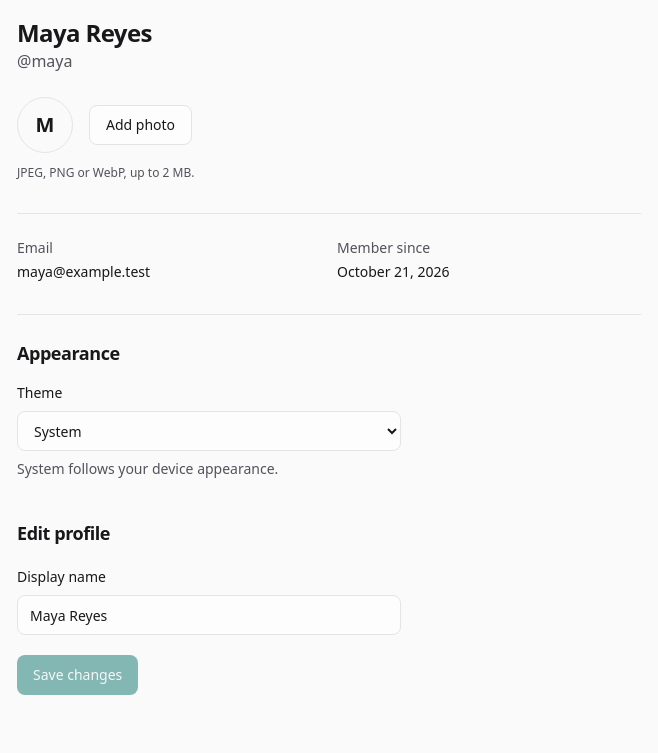
Test: Profile › saves a new display name
The width and height of the screenshot is (658, 753).
Replace the text in the field labelled "Display name" with "Maya R." at point(209, 615), box [17, 595, 401, 635]
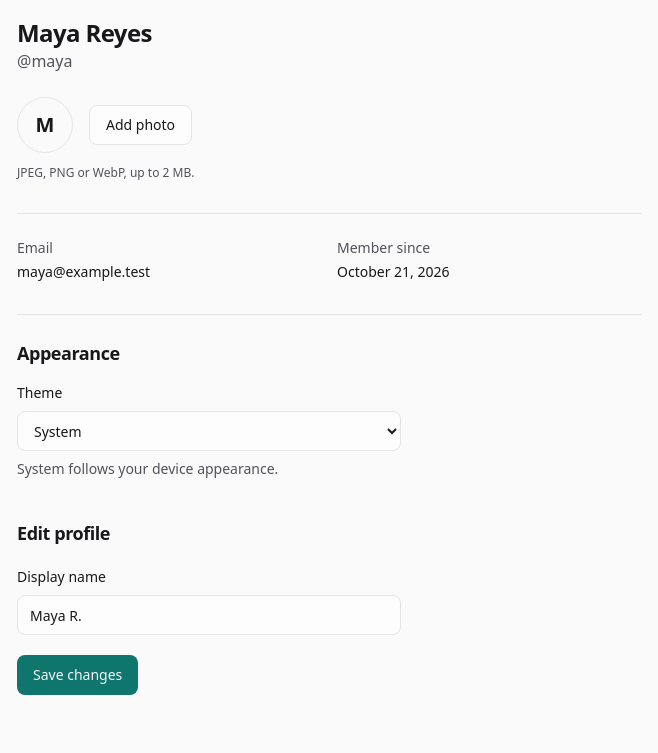
Click the button "Save changes" at point(78, 675), box [17, 655, 138, 695]
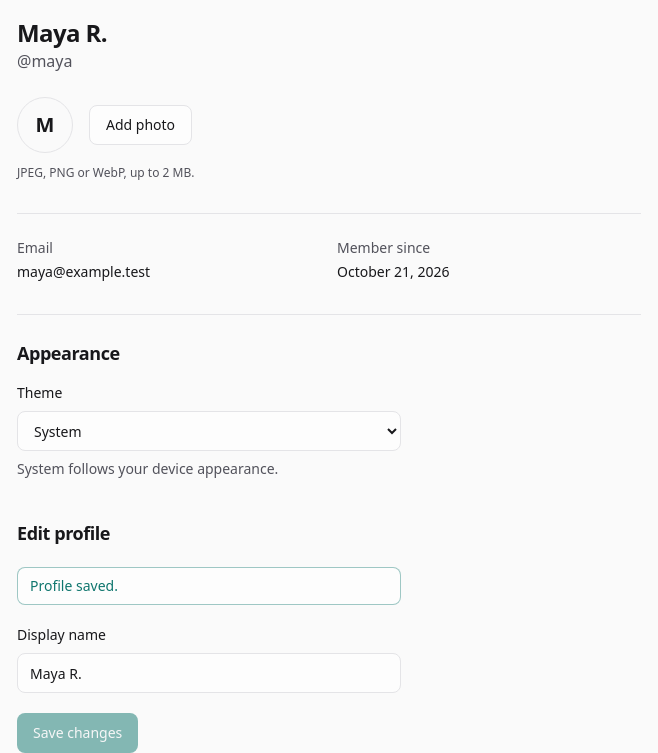
expect the heading "Maya R." is shown: met, box [17, 16, 107, 49]
expect the message reads "Profile saved.": met, box [30, 576, 118, 595]
